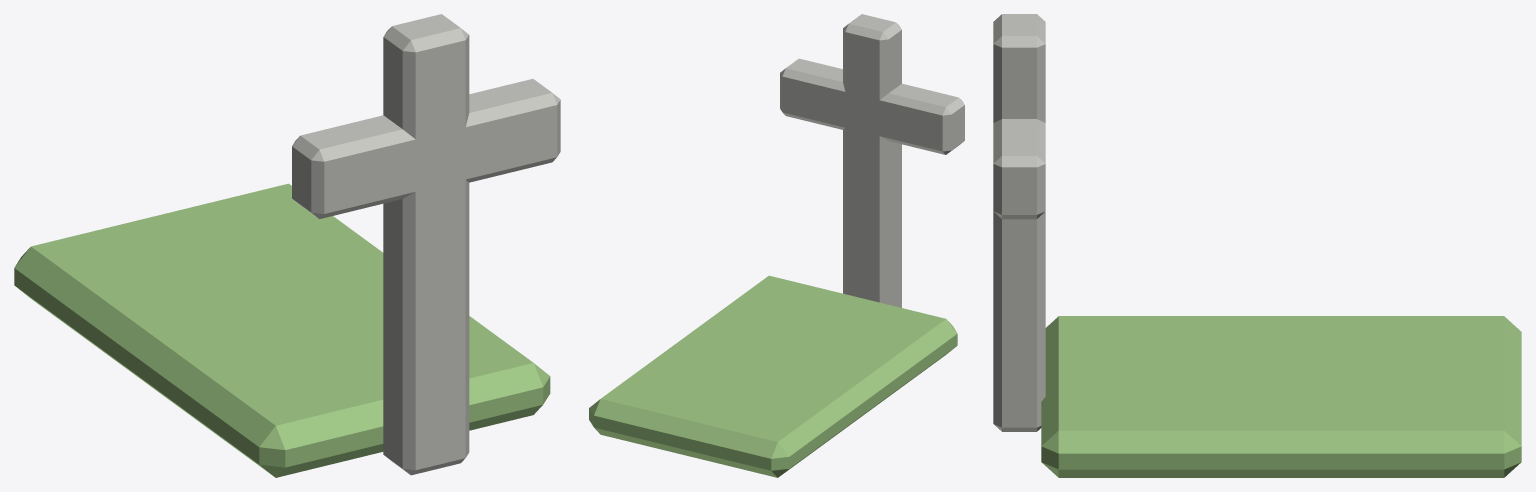
The model's file is Gravestone_Cross.glb.
The picture shows the model from 3 angles, left to right: view 1: azimuth 30°, elevation 25°; view 2: azimuth 150°, elevation 25°; view 3: azimuth 270°, elevation 25°; orthographic projection. The views are drawn at different scales.
Visible parts, largest first — view 1: Gravestone_Cross; view 2: Gravestone_Cross; view 3: Gravestone_Cross.
Part boxes in pixels (x1,y1,x2,y2): Gravestone_Cross: (14, 14, 560, 477); Gravestone_Cross: (589, 14, 964, 477); Gravestone_Cross: (993, 14, 1521, 477).
Size of the model in its own units: 0.7 by 1 by 1.21.
